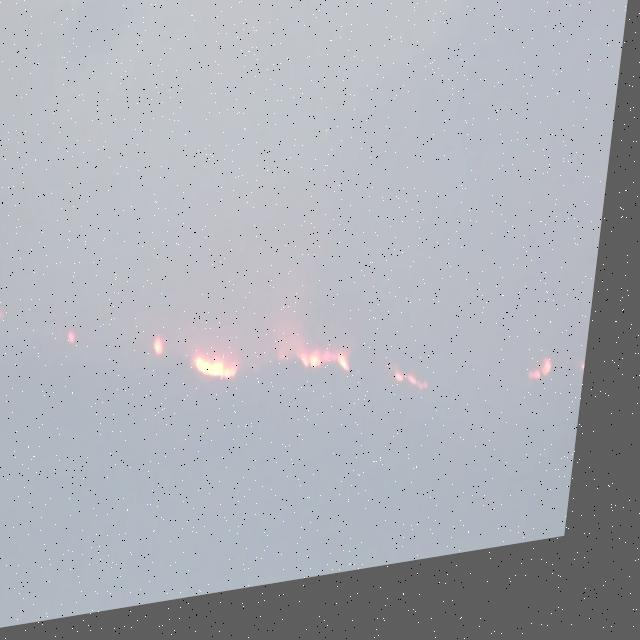Fire: (201, 355, 251, 397), (311, 357, 361, 392), (402, 378, 442, 412), (542, 378, 564, 401), (161, 338, 175, 365)
